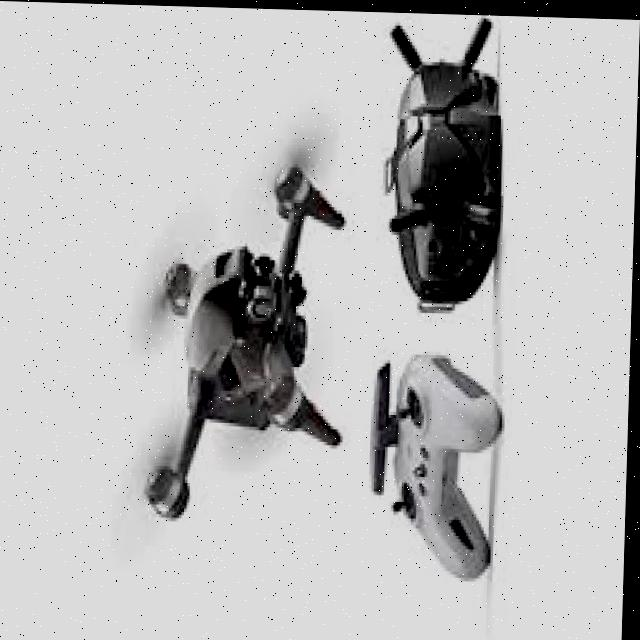drone: (118, 105, 361, 551)
